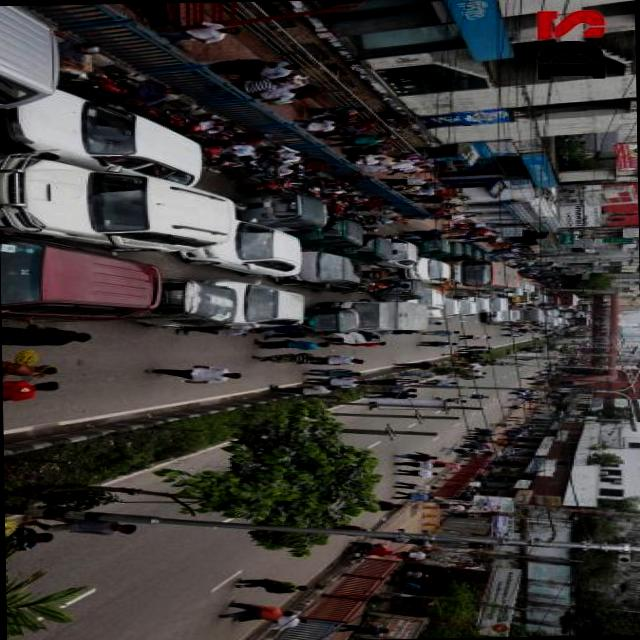bus: (452, 260, 520, 290), (546, 292, 580, 307)
car: (1, 148, 240, 256), (2, 87, 205, 191), (2, 235, 160, 324), (188, 220, 308, 280), (210, 278, 310, 331), (281, 246, 366, 294), (382, 237, 421, 269), (407, 258, 451, 286), (413, 288, 448, 310), (432, 298, 462, 320), (454, 298, 478, 316)
motorcycle: (154, 278, 242, 328), (233, 192, 329, 234), (64, 69, 148, 109), (304, 218, 365, 248), (132, 107, 198, 133), (298, 308, 359, 336), (354, 233, 396, 264), (204, 146, 244, 174), (377, 278, 425, 299), (411, 238, 451, 256), (240, 182, 298, 194), (346, 542, 384, 558), (432, 242, 464, 260), (325, 200, 349, 220), (307, 180, 345, 192), (214, 128, 240, 144), (240, 160, 272, 173)
truck: (328, 300, 429, 335), (484, 298, 508, 313)
